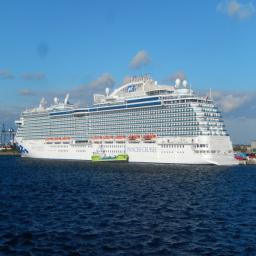cruises: (14, 72, 241, 171)
